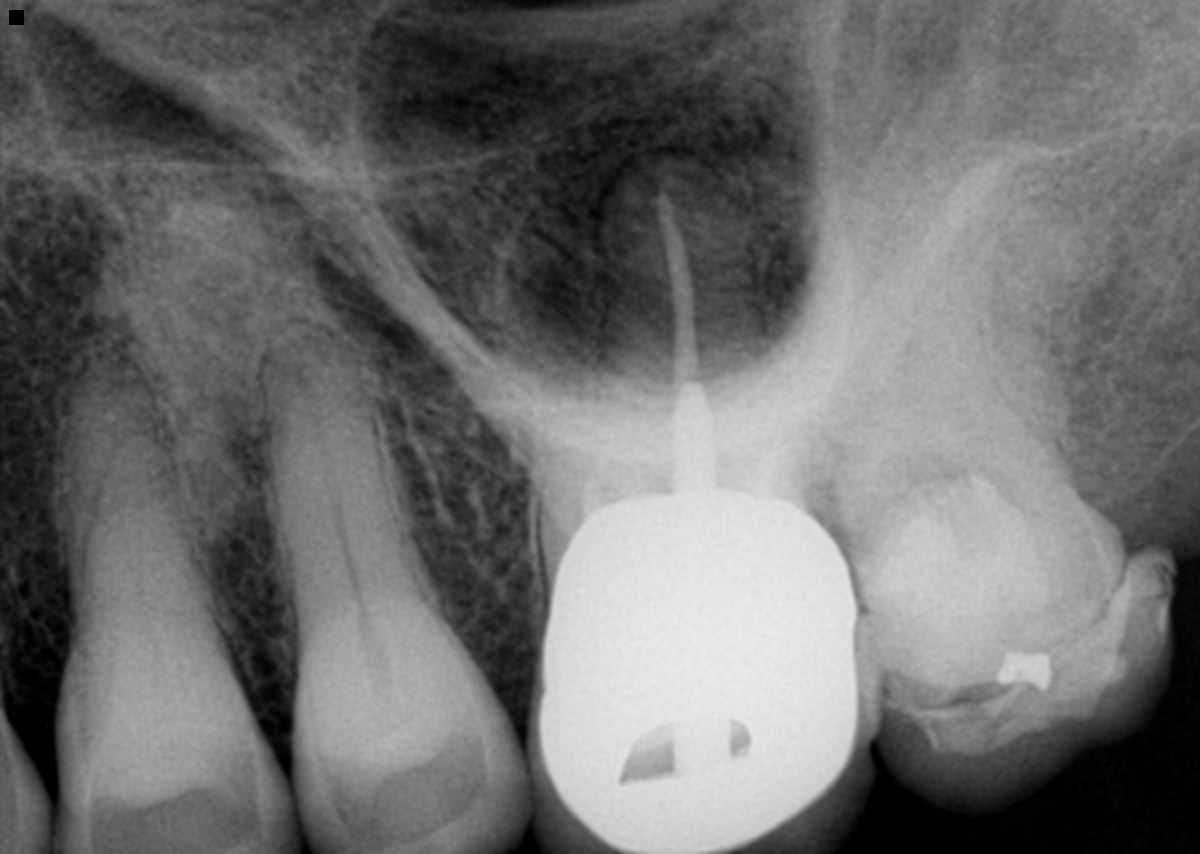Distal Root: (719, 373, 809, 512)
Main Canal: (302, 379, 382, 642)
Main Root: (830, 162, 1073, 596), (265, 315, 433, 665), (57, 437, 250, 731)
Mesial Root: (538, 419, 634, 582)
Palatal Root: (591, 156, 798, 519)
Root Canal Filling: (650, 190, 699, 394), (748, 439, 778, 496), (586, 458, 609, 515)
